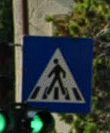trecere_pietoni: (20, 32, 94, 114)
